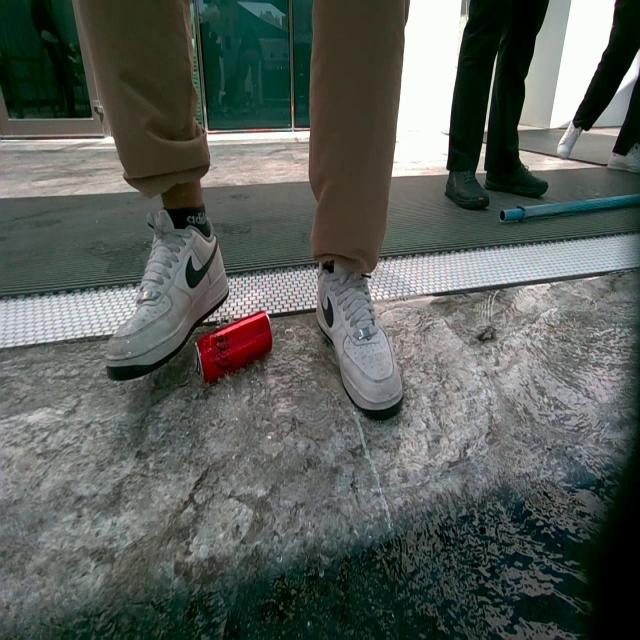Cans: (193, 314, 272, 388)
